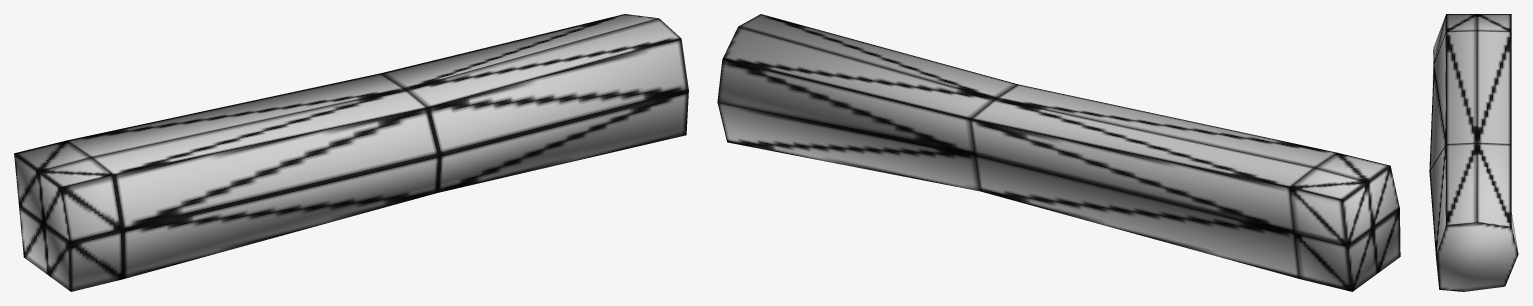
The model's file is playerLarm.obj.
3 renders of one model, left to right at view 1: azimuth 30°, elevation 25°; view 2: azimuth 150°, elevation 25°; view 3: azimuth 270°, elevation 25°, orthographic. The views are drawn at different scales.
Parts seen in each view (by area): view 1: 立方体.004; view 2: 立方体.004; view 3: 立方体.004.
Boxes of the visible parts, left/top/right/bottom form: 立方体.004: left=14, top=14, right=688, bottom=291; 立方体.004: left=717, top=14, right=1400, bottom=291; 立方体.004: left=1429, top=14, right=1518, bottom=291.
Size of the model in its own units: 0.7021 by 0.1082 by 0.126.
Materials: 1 (1 with a texture image).
